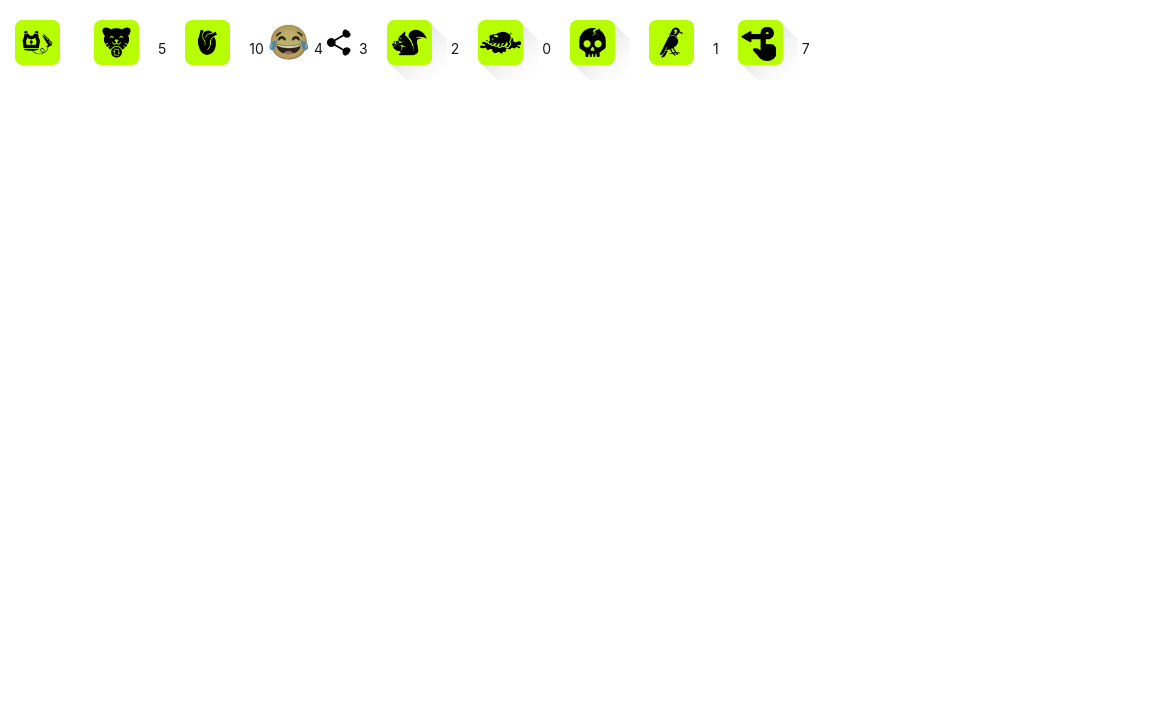
Test case: PostActions › report button and modal › opens report modal when report button is clicked
What coordinates should you click on to do the following:
click the button titled "Report"
I would click on:
 (592, 42)
Its box is [555,5,630,80].
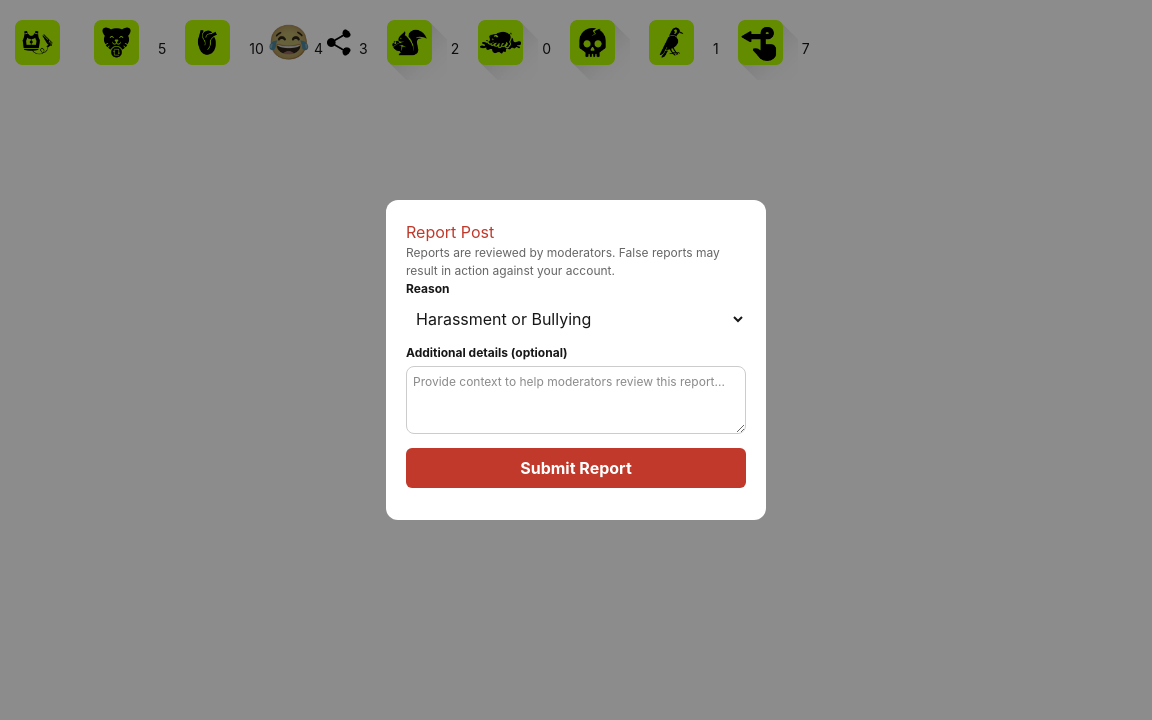
Expected: the heading "Report Post" is shown, [406,222,494,242]
Expected: the button "Submit Report" is shown, [406,448,746,488]
